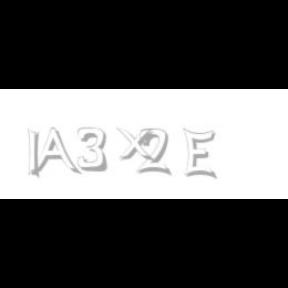2: (136, 128, 170, 176)
3: (78, 128, 109, 172)
A: (30, 128, 78, 176)
E: (182, 128, 216, 180)
l: (27, 128, 43, 180)
x: (116, 128, 158, 162)
